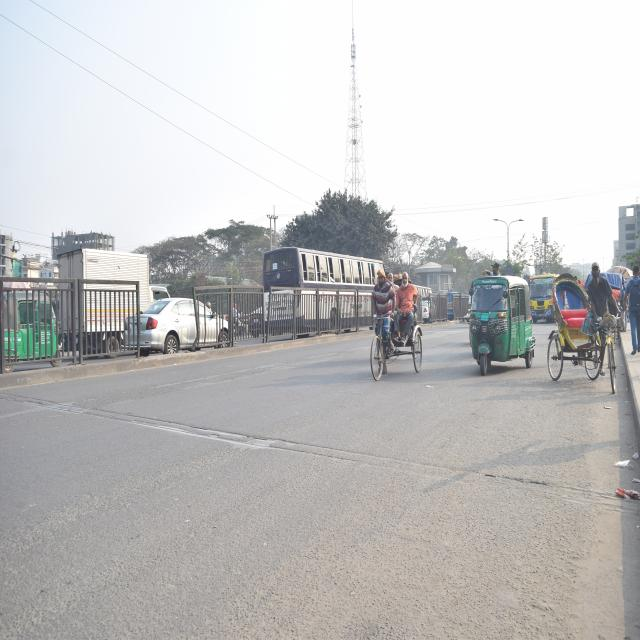bus: (260, 239, 378, 336), (530, 269, 557, 332)
car: (125, 292, 232, 356)
pickup-van: (51, 241, 151, 350)
